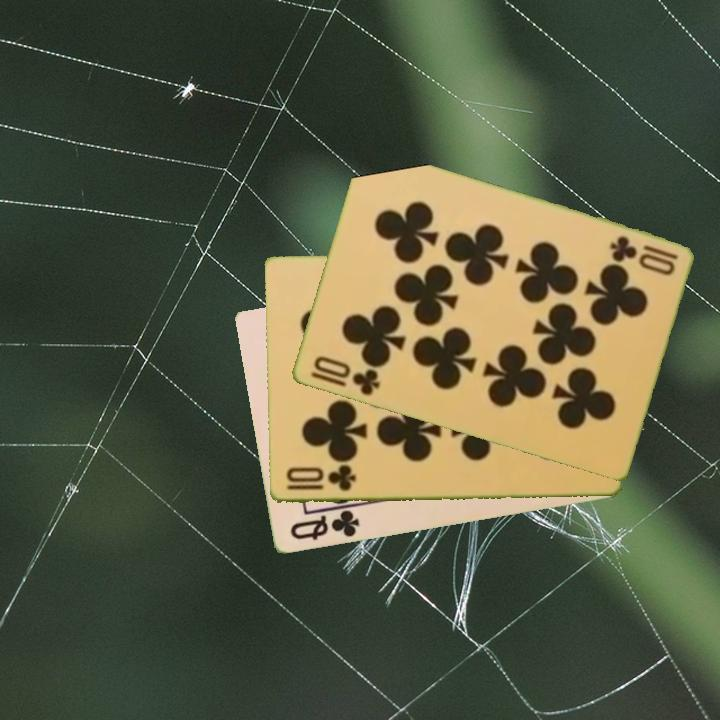10c: (310, 352, 383, 399), (605, 232, 681, 264), (282, 464, 359, 494)
Qc: (286, 503, 362, 543)
